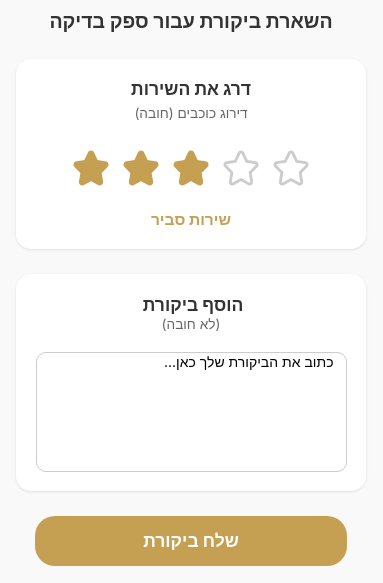
Test: ReviewsScreen - בדיקות בסיסיות ו-flow › מציג modal תודה לאחר שליחה מוצלחת
In the text box with placeholder "כתוב את הביקורת שלך כאן...": (191, 412) 36,352 -> 346,472, type "תודה על השירות"
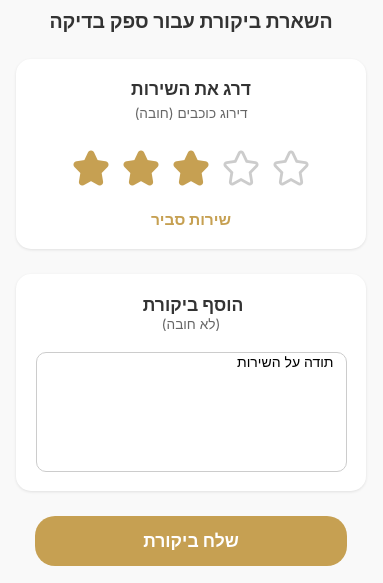
Click the text "שלח ביקורת": (191, 541) 143,530 -> 239,552
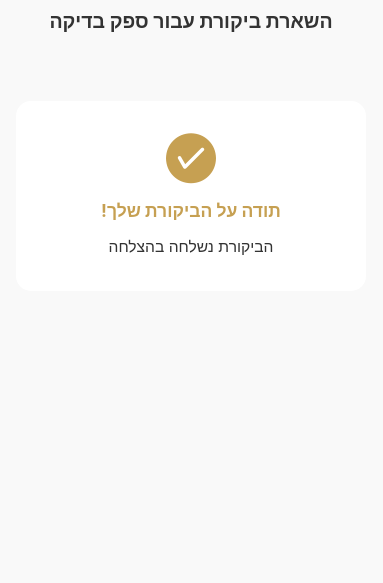
Now the text "תודה על הביקורת שלך!" is shown, box 101,200 -> 281,222
